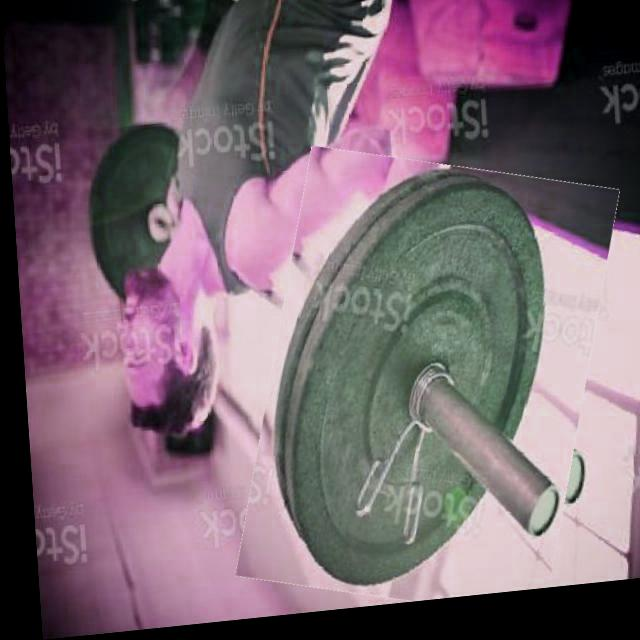barbell: (231, 146, 614, 622)
